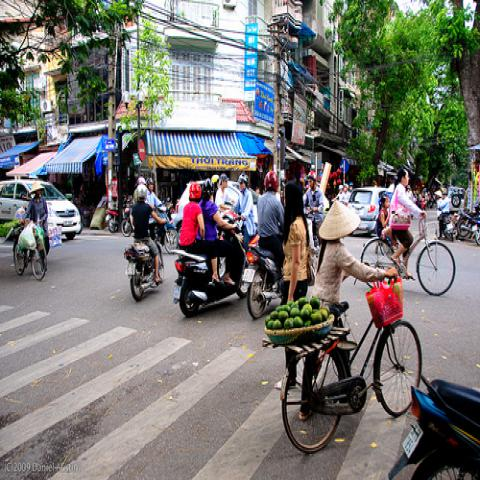car: (170, 181, 260, 242), (0, 180, 82, 240), (346, 188, 389, 237)
motorcycle: (386, 371, 479, 474), (172, 233, 248, 319), (243, 244, 283, 320), (125, 239, 166, 290), (442, 210, 456, 242)
